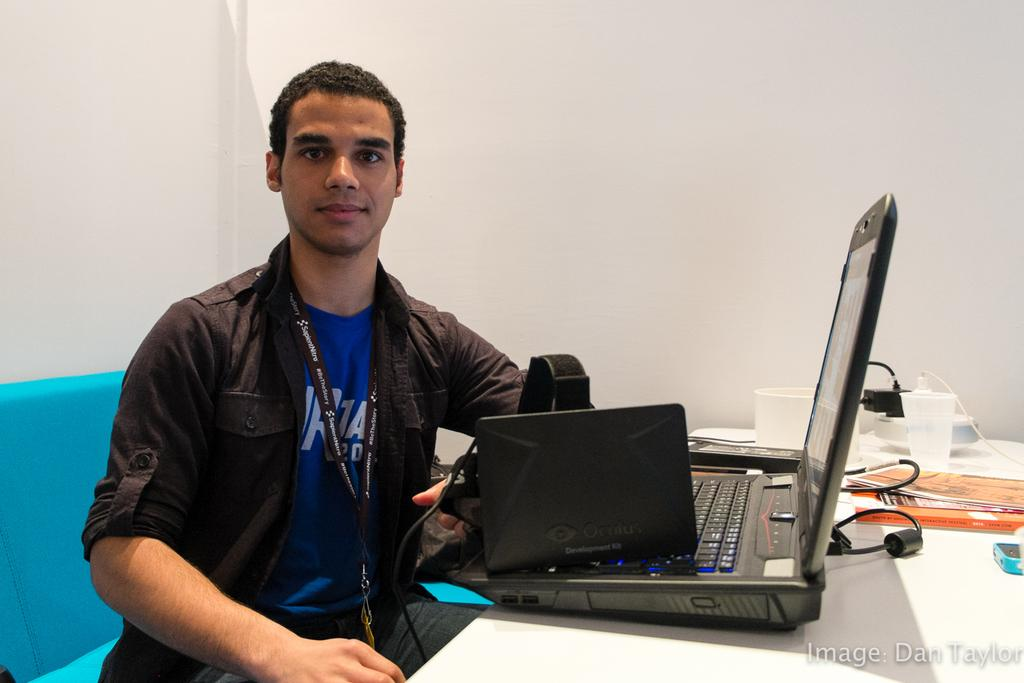Laptop: (481, 190, 900, 635)
